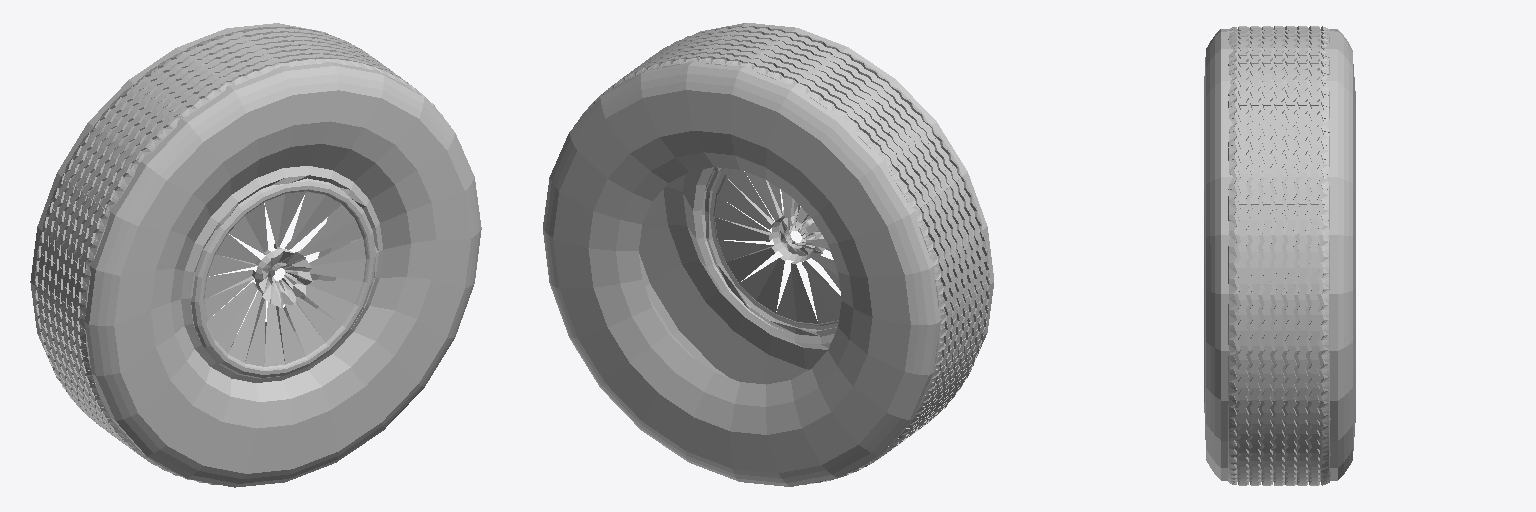
Rendered from TireTreadSpikeWheel.obj.
3 views of the same model, side by side, from view 1: azimuth 30°, elevation 25°; view 2: azimuth 150°, elevation 25°; view 3: azimuth 270°, elevation 25° (orthographic).
Parts seen in each view (by area): view 1: nurbsCircle9, loftedSurface3; view 2: nurbsCircle9, loftedSurface3; view 3: nurbsCircle9.
Boxes of the visible parts, box(x1,y1,x2,y2) form: nurbsCircle9: box(30, 23, 481, 487); loftedSurface3: box(191, 178, 375, 378); nurbsCircle9: box(543, 23, 993, 486); loftedSurface3: box(701, 167, 841, 331); nurbsCircle9: box(1204, 26, 1355, 485).
Bounding box in the file's own units: 15.97 × 15.98 × 5.29.